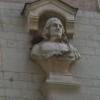Statue: (21, 10, 87, 89)
